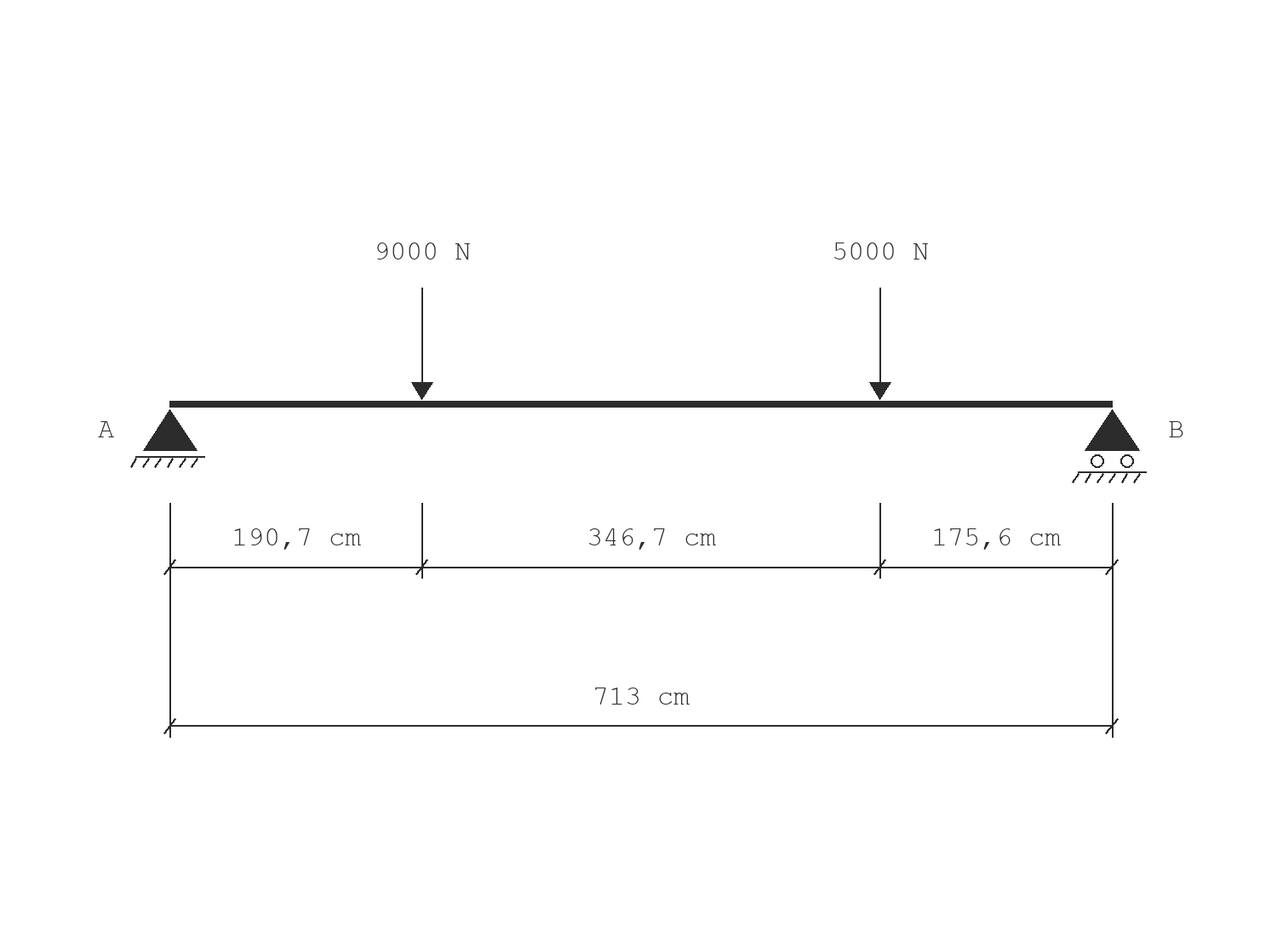pin_support: (130, 409, 205, 468)
point_load: (411, 288, 433, 400), (869, 288, 891, 400)
roller_support: (1072, 409, 1147, 483)
